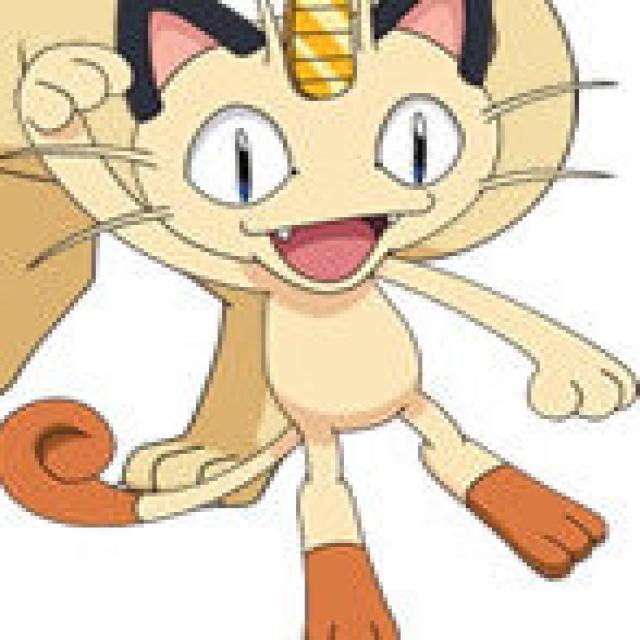Meowth: (17, 5, 638, 633)
